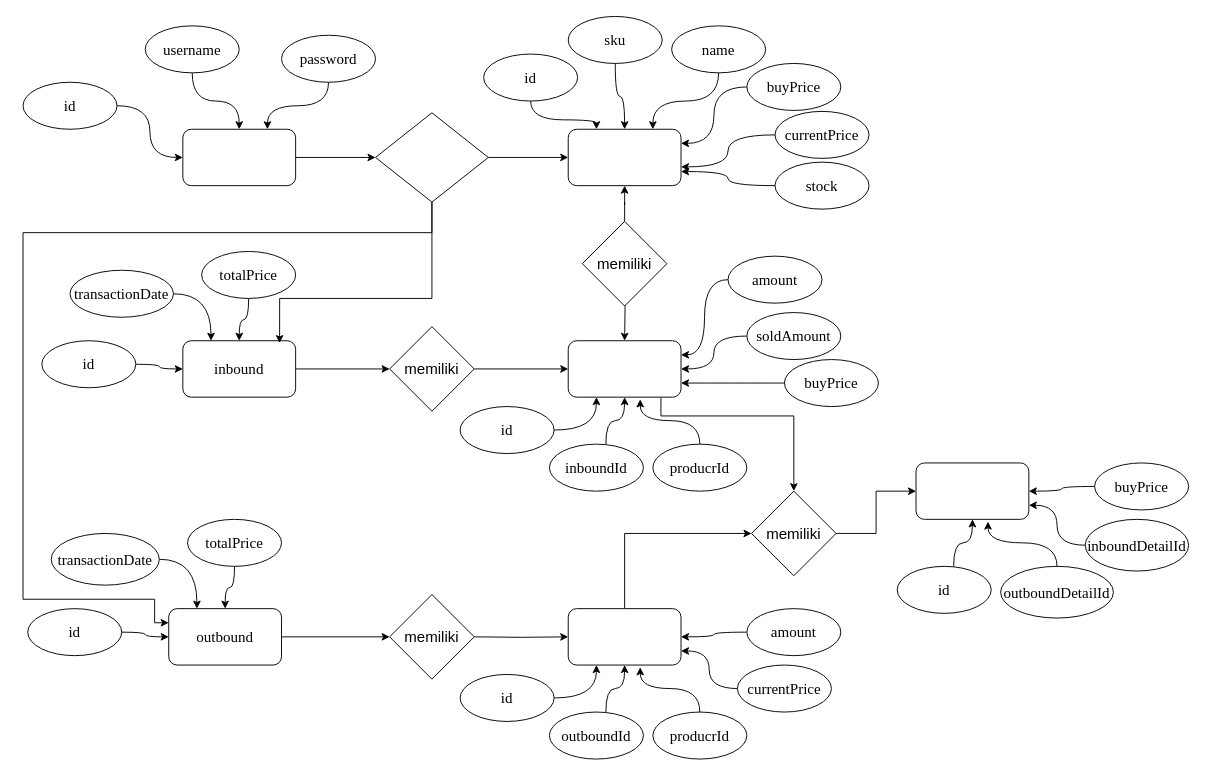
This 1205x776 diagram has some shape labels left out. The centre of each missing label's shape, as x and y in pixels:
"inboundDetail" belongs at (x=624, y=368).
"memasukkan" belongs at (x=431, y=157).
"outboundDetail" belongs at (x=624, y=636).
"outbounRef" belongs at (x=972, y=490).
"product" belongs at (x=624, y=157).
"user" belongs at (x=239, y=157).
